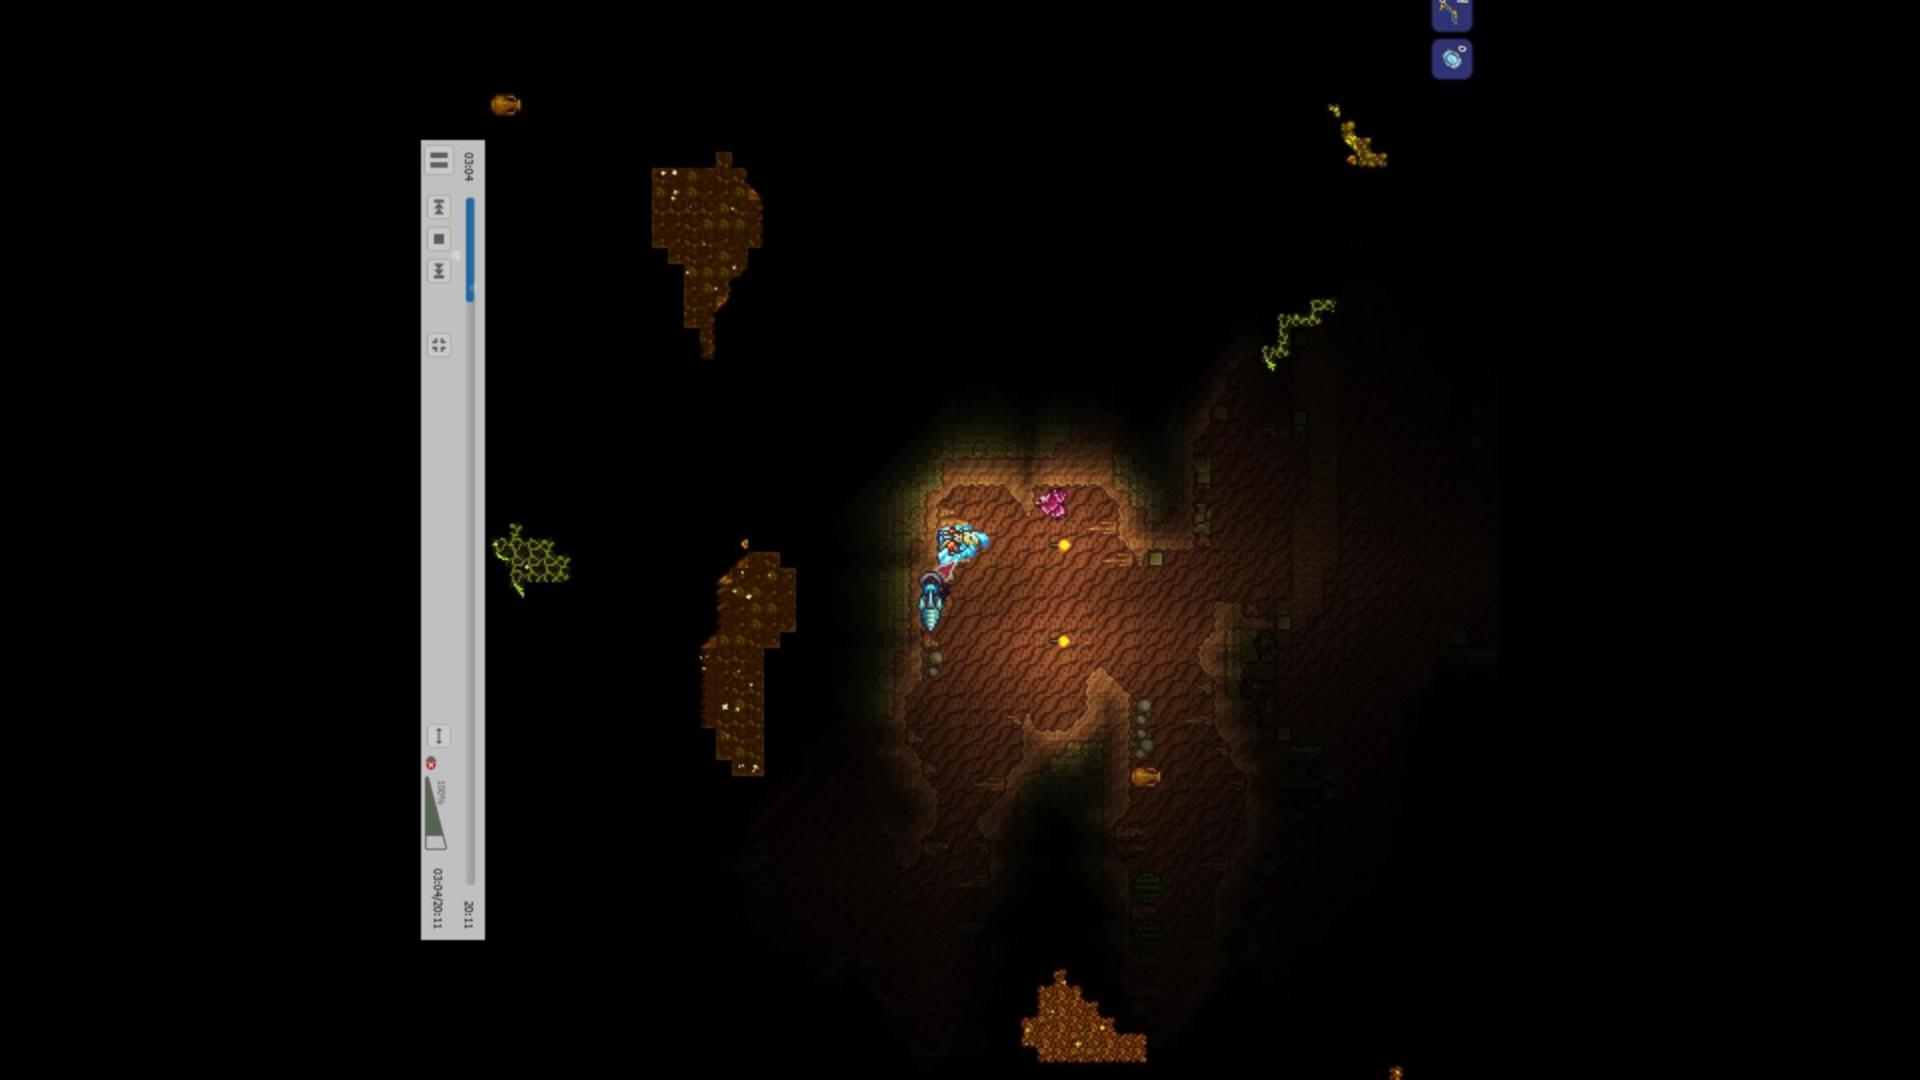lifeC: (1033, 484, 1069, 525)
pot: (485, 88, 530, 117), (1129, 761, 1170, 793)
